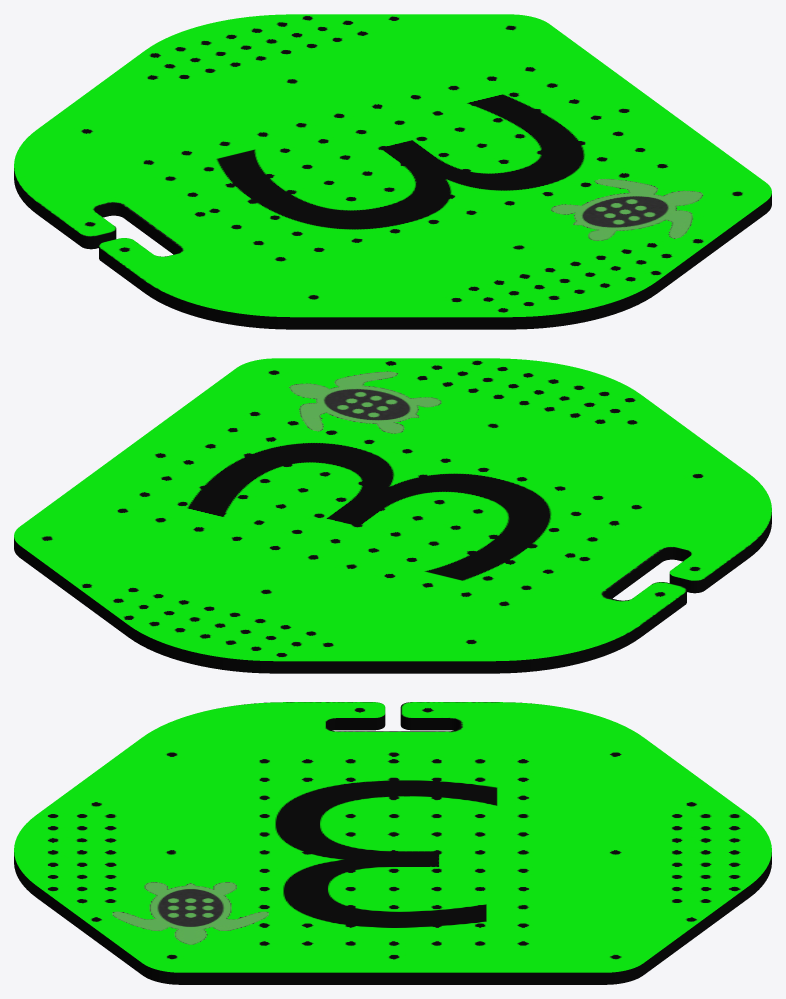
File: plate_top_green.dae
The picture shows the model from 3 angles, top to bottom: view 1: azimuth 30°, elevation 25°; view 2: azimuth 150°, elevation 25°; view 3: azimuth 270°, elevation 25°; orthographic projection. The views are drawn at different scales.
Parts seen in each view (by area): view 1: _f_stack; view 2: _f_stack; view 3: _f_stack.
Boxes of the visible parts, x1,y1,x2,y2 form: _f_stack: [14, 14, 771, 329]; _f_stack: [14, 358, 771, 673]; _f_stack: [14, 702, 771, 984].
Size of the model in its own units: 0.2873 by 0.34 by 0.006.
Materials: 1 (1 with a texture image).
